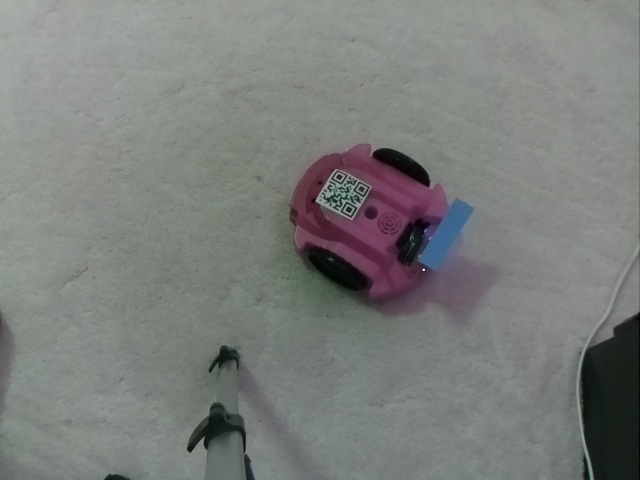chassis: (282, 139, 460, 303)
qr: (317, 164, 370, 224)
